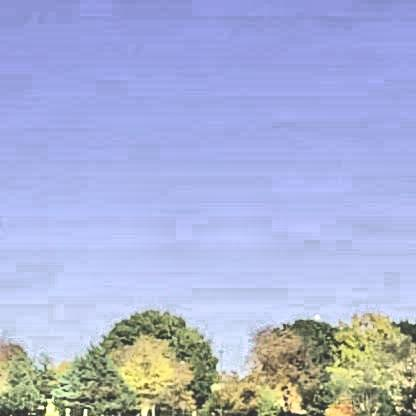golfball: (310, 311, 318, 316)
